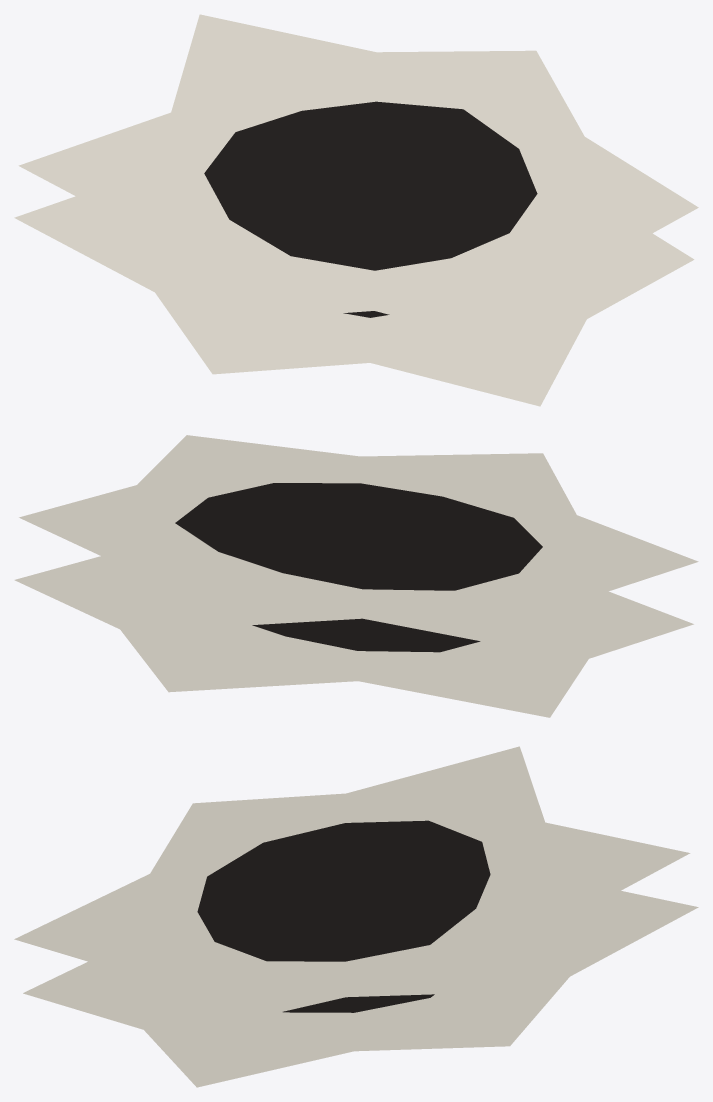
File: hole_stand_02.obj
The picture shows the model from 3 angles, top to bottom: view 1: azimuth 30°, elevation 25°; view 2: azimuth 150°, elevation 25°; view 3: azimuth 270°, elevation 25°; orthographic projection. The views are drawn at different scales.
Size of the model in its own units: 0.052 by 0.0139 by 0.0614.
